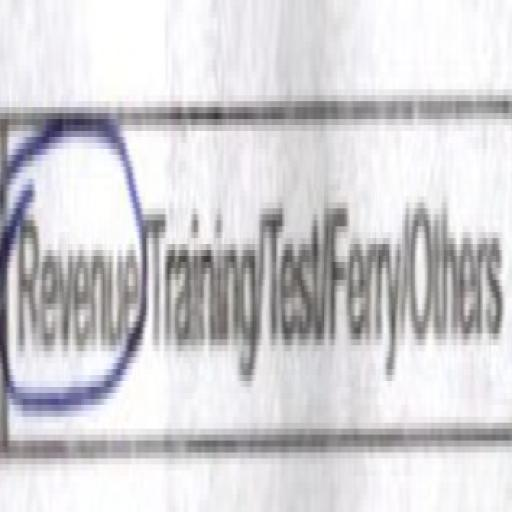check: (1, 14, 148, 492)
